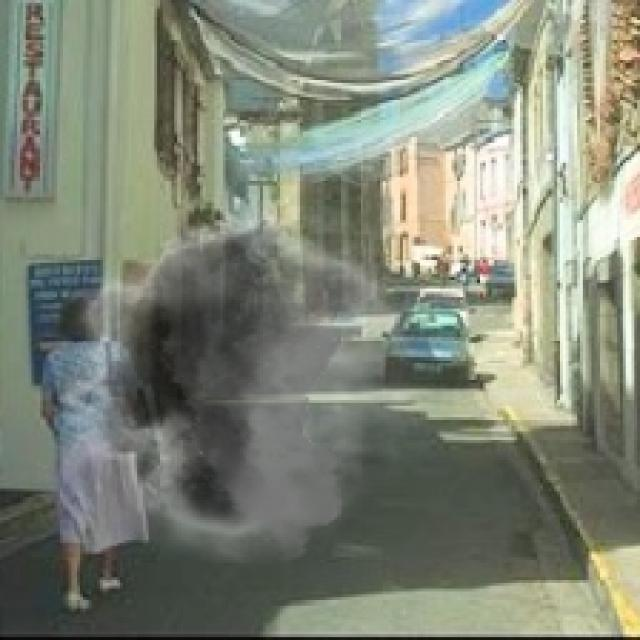Smoke: (37, 188, 452, 563)
